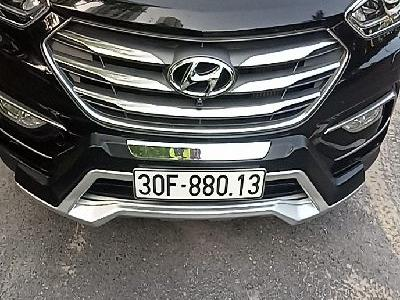car: (132, 168, 265, 201)
